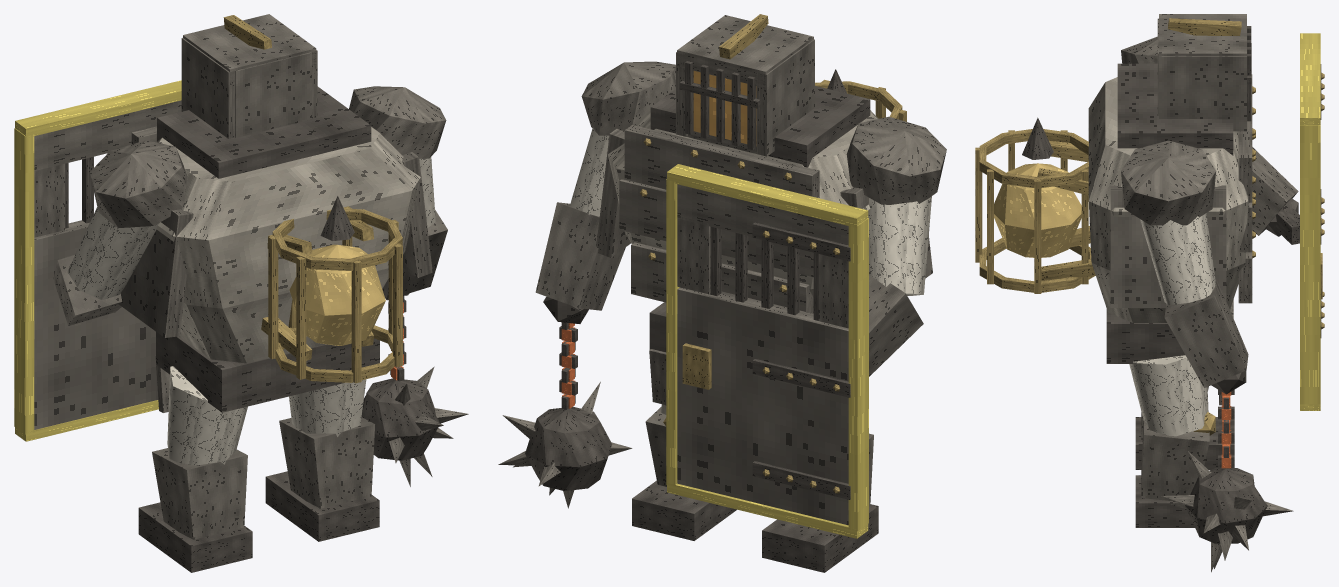
The model's file is enemy_gaoler.gltf.
3 renders of one model, left to right at view 1: azimuth 30°, elevation 25°; view 2: azimuth 150°, elevation 25°; view 3: azimuth 270°, elevation 25°, orthographic. The views are drawn at different scales.
Parts seen in each view (by area): view 1: torso, shield, helm, rim, shin_l, shin_r, pelvis, flail, lantern, thigh_l, arm_l, thigh_r (+3 smaller); view 2: shield, torso, rim, helm, flail, forearm_r, arm_l, shin_r, shin_l, forearm_l, arm_r, pelvis (+3 smaller); view 3: torso, helm, rim, shin_r, flail, forearm_r, lantern, thigh_r, arm_r, pelvis, forearm_l, shield (+3 smaller).
Boxes of the visible parts, x1,y1,x2,y2 form: torso: (89, 86, 446, 383); shield: (34, 100, 181, 429); helm: (181, 14, 317, 138); rim: (14, 80, 181, 441); shin_l: (138, 448, 252, 572); shin_r: (265, 417, 379, 541); pelvis: (155, 332, 379, 412); flail: (361, 366, 468, 486); lantern: (289, 244, 385, 345); thigh_l: (167, 366, 247, 465); arm_l: (67, 207, 159, 300); thigh_r: (289, 379, 366, 436); shield: (677, 184, 850, 525); torso: (581, 61, 946, 313); rim: (666, 164, 868, 538); helm: (676, 14, 814, 156); flail: (498, 381, 632, 508); forearm_r: (535, 202, 625, 323); arm_l: (868, 196, 931, 295); shin_r: (632, 406, 736, 540); shin_l: (762, 433, 878, 572); forearm_l: (869, 275, 923, 376); arm_r: (570, 127, 609, 216); pelvis: (649, 302, 666, 404); torso: (975, 36, 1255, 322); helm: (1157, 14, 1251, 131); rim: (1300, 33, 1320, 410); shin_r: (1135, 412, 1215, 527); flail: (1161, 451, 1293, 572); forearm_r: (1164, 279, 1248, 394); lantern: (994, 163, 1081, 257); thigh_r: (1129, 355, 1208, 436); arm_r: (1140, 213, 1216, 305); pelvis: (1106, 299, 1233, 405); forearm_l: (1252, 147, 1298, 236); shield: (1275, 64, 1324, 337).
Size of the model in its own units: 3.1 by 3.8 by 2.54.
Materials: 18 (18 with a texture image).
